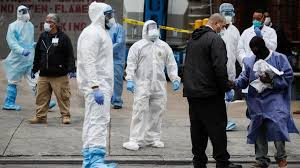masked: (89, 2, 115, 28), (142, 19, 162, 41), (41, 13, 58, 33), (220, 2, 235, 24), (212, 13, 225, 36), (251, 11, 265, 28), (17, 5, 30, 20)
